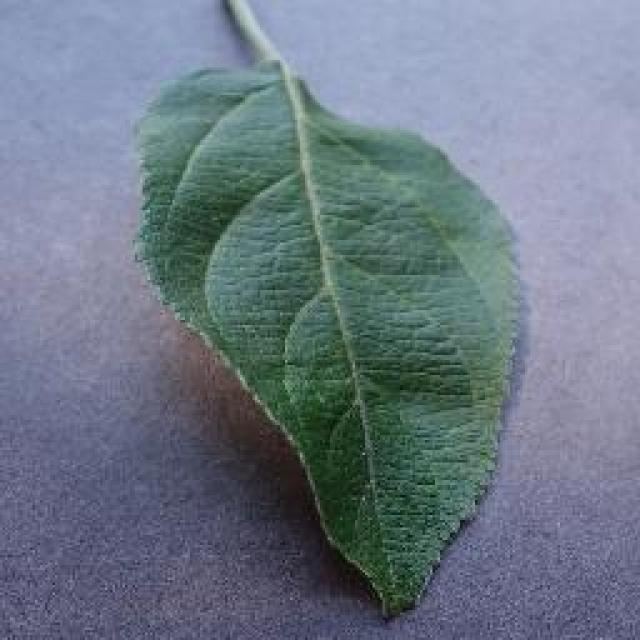apple healthy: (128, 0, 528, 620)
